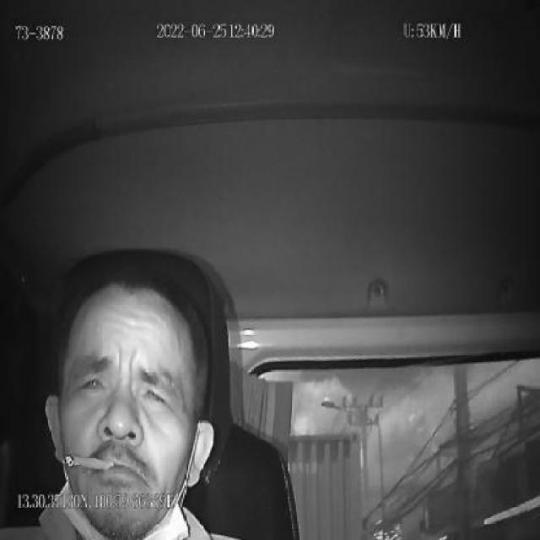smoking: (65, 450, 118, 473)
